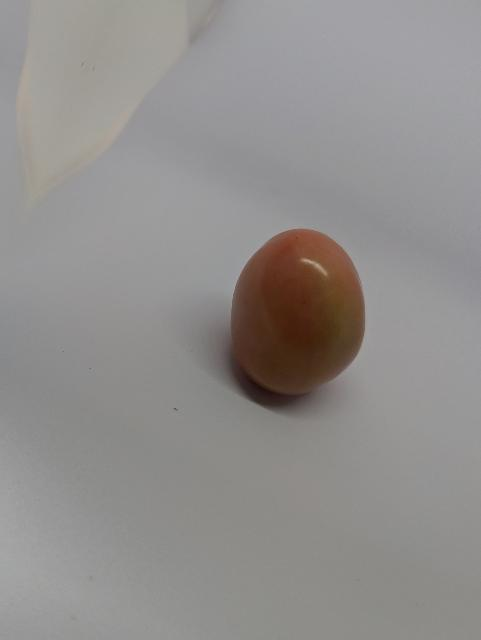turning: (223, 222, 376, 410)
